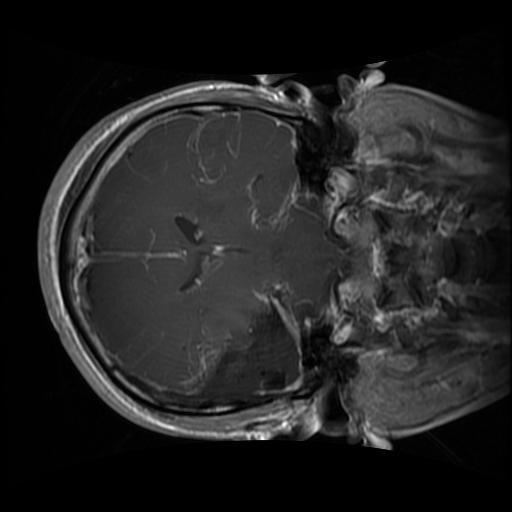glioma: (183, 301, 300, 406)
